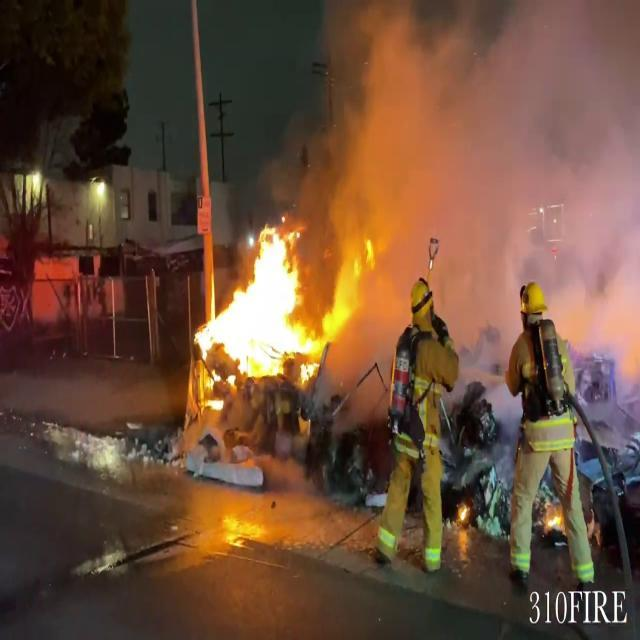Fire: (192, 217, 334, 400)
Smoke: (320, 0, 640, 363)
